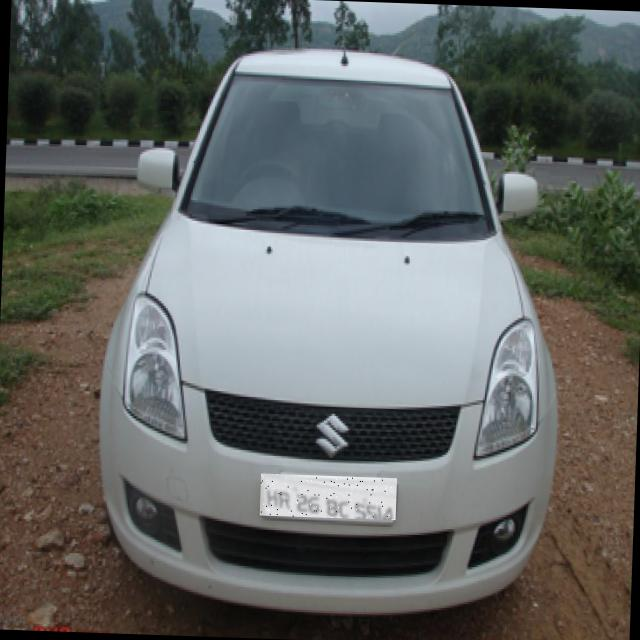Plate: (261, 474, 398, 521)
